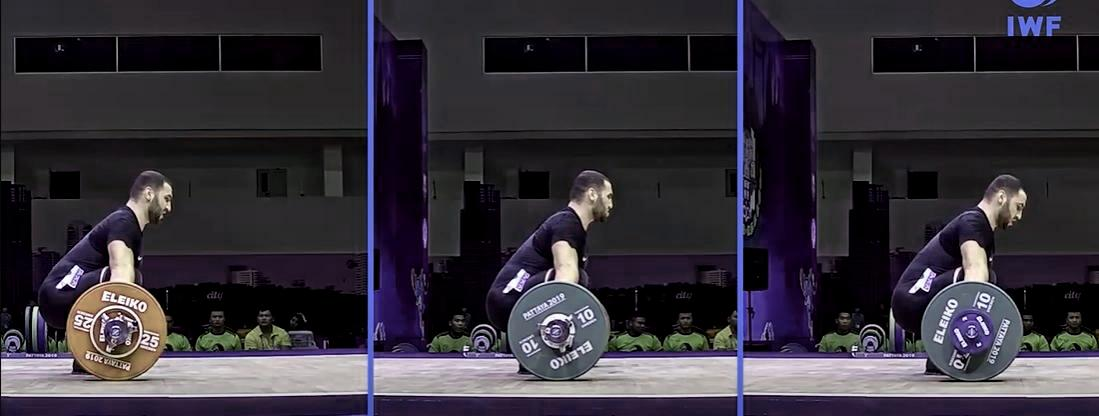Barbell: (531, 308, 582, 360), (98, 315, 143, 349), (960, 320, 982, 346)
